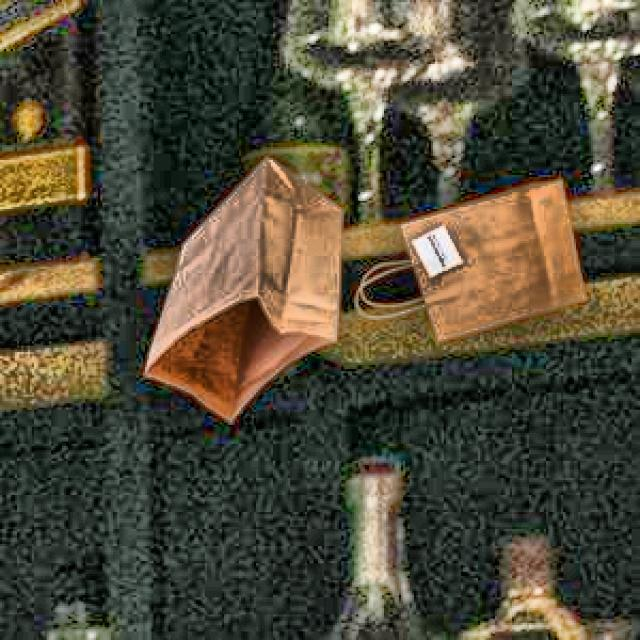Paper-bag: (134, 150, 347, 434), (356, 163, 599, 354)
